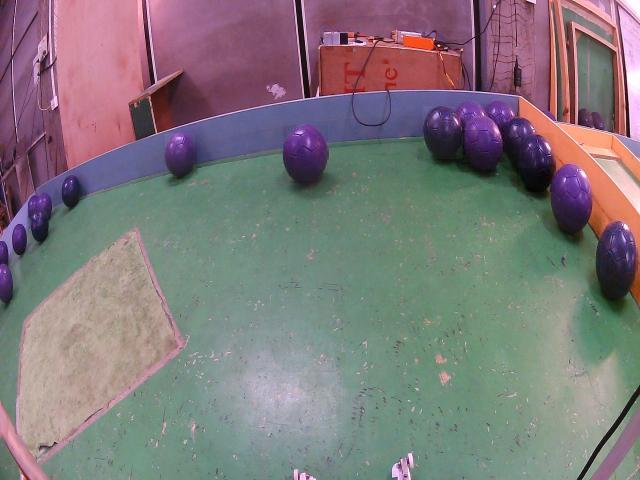jambhalya: (552, 164, 592, 233), (284, 125, 328, 183), (463, 116, 502, 171), (165, 133, 195, 177), (486, 102, 515, 134), (456, 101, 487, 130), (0, 264, 12, 303), (13, 225, 26, 256), (38, 194, 52, 218), (28, 195, 38, 218), (0, 242, 8, 263)
kaalyya: (596, 220, 637, 299), (517, 133, 555, 192), (424, 107, 463, 159), (504, 117, 536, 168), (62, 175, 81, 208), (31, 208, 49, 242)
